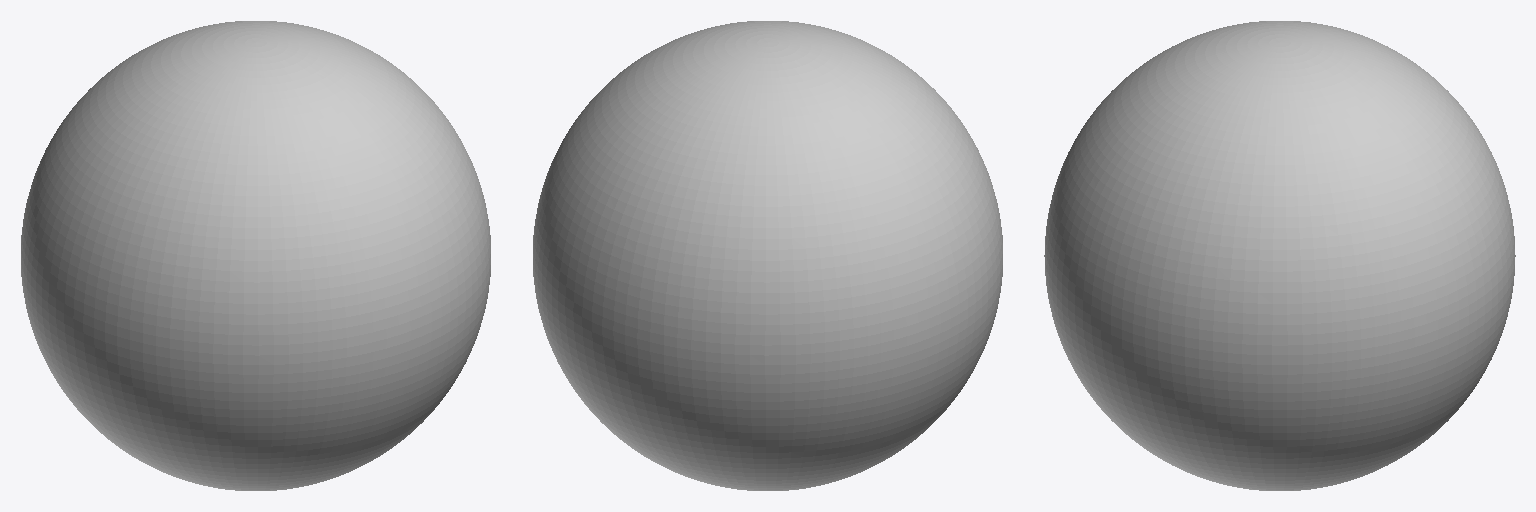
The model's file is Earth.obj.
The picture shows the model from 3 angles: view 1: azimuth 30°, elevation 25°; view 2: azimuth 150°, elevation 25°; view 3: azimuth 270°, elevation 25°; orthographic projection.
Visible parts, largest first — view 1: Sphere; view 2: Sphere; view 3: Sphere.
Part boxes in pixels (left/top/right/bottom): Sphere: left=21, top=21, right=490, bottom=490; Sphere: left=533, top=21, right=1002, bottom=490; Sphere: left=1044, top=21, right=1515, bottom=490.
Bounding box in the file's own units: 0.1799 × 0.18 × 0.18.